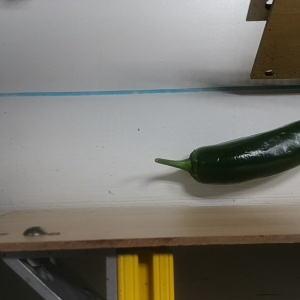Cut Point: (180, 146, 211, 183)
